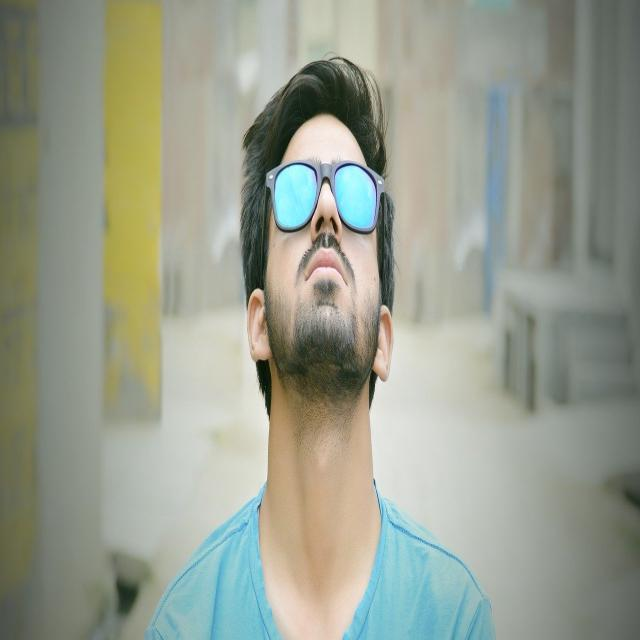face: (268, 113, 382, 387)
